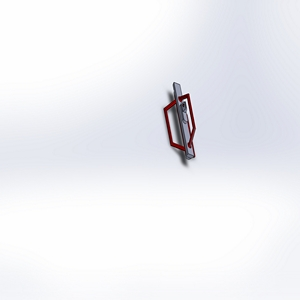submarine: (147, 71, 221, 175)
